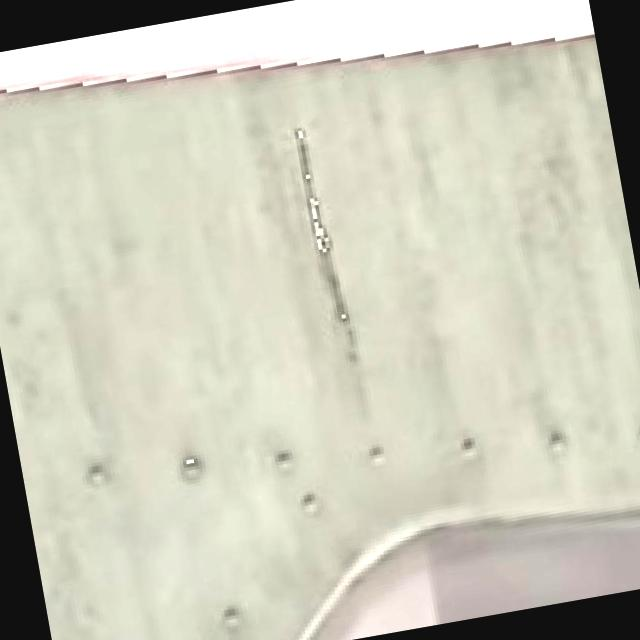crack: (286, 137, 402, 377)
